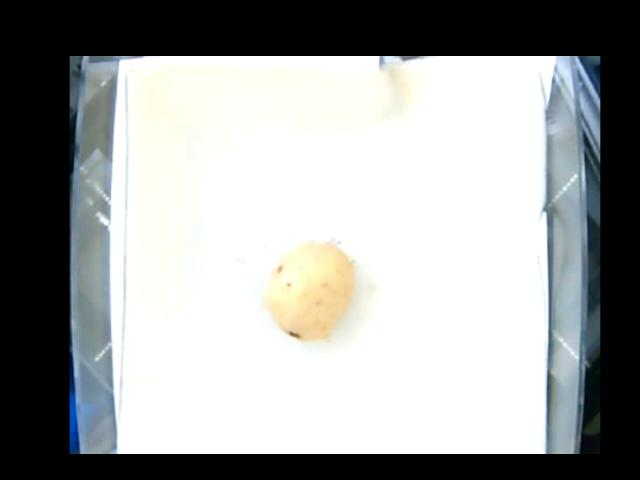Potato: (267, 235, 354, 338)
